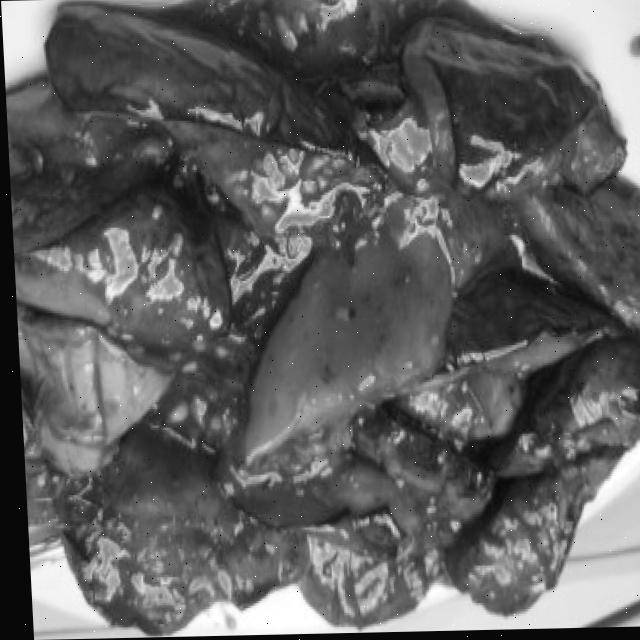鸡蛋料理: (0, 1, 640, 640)
